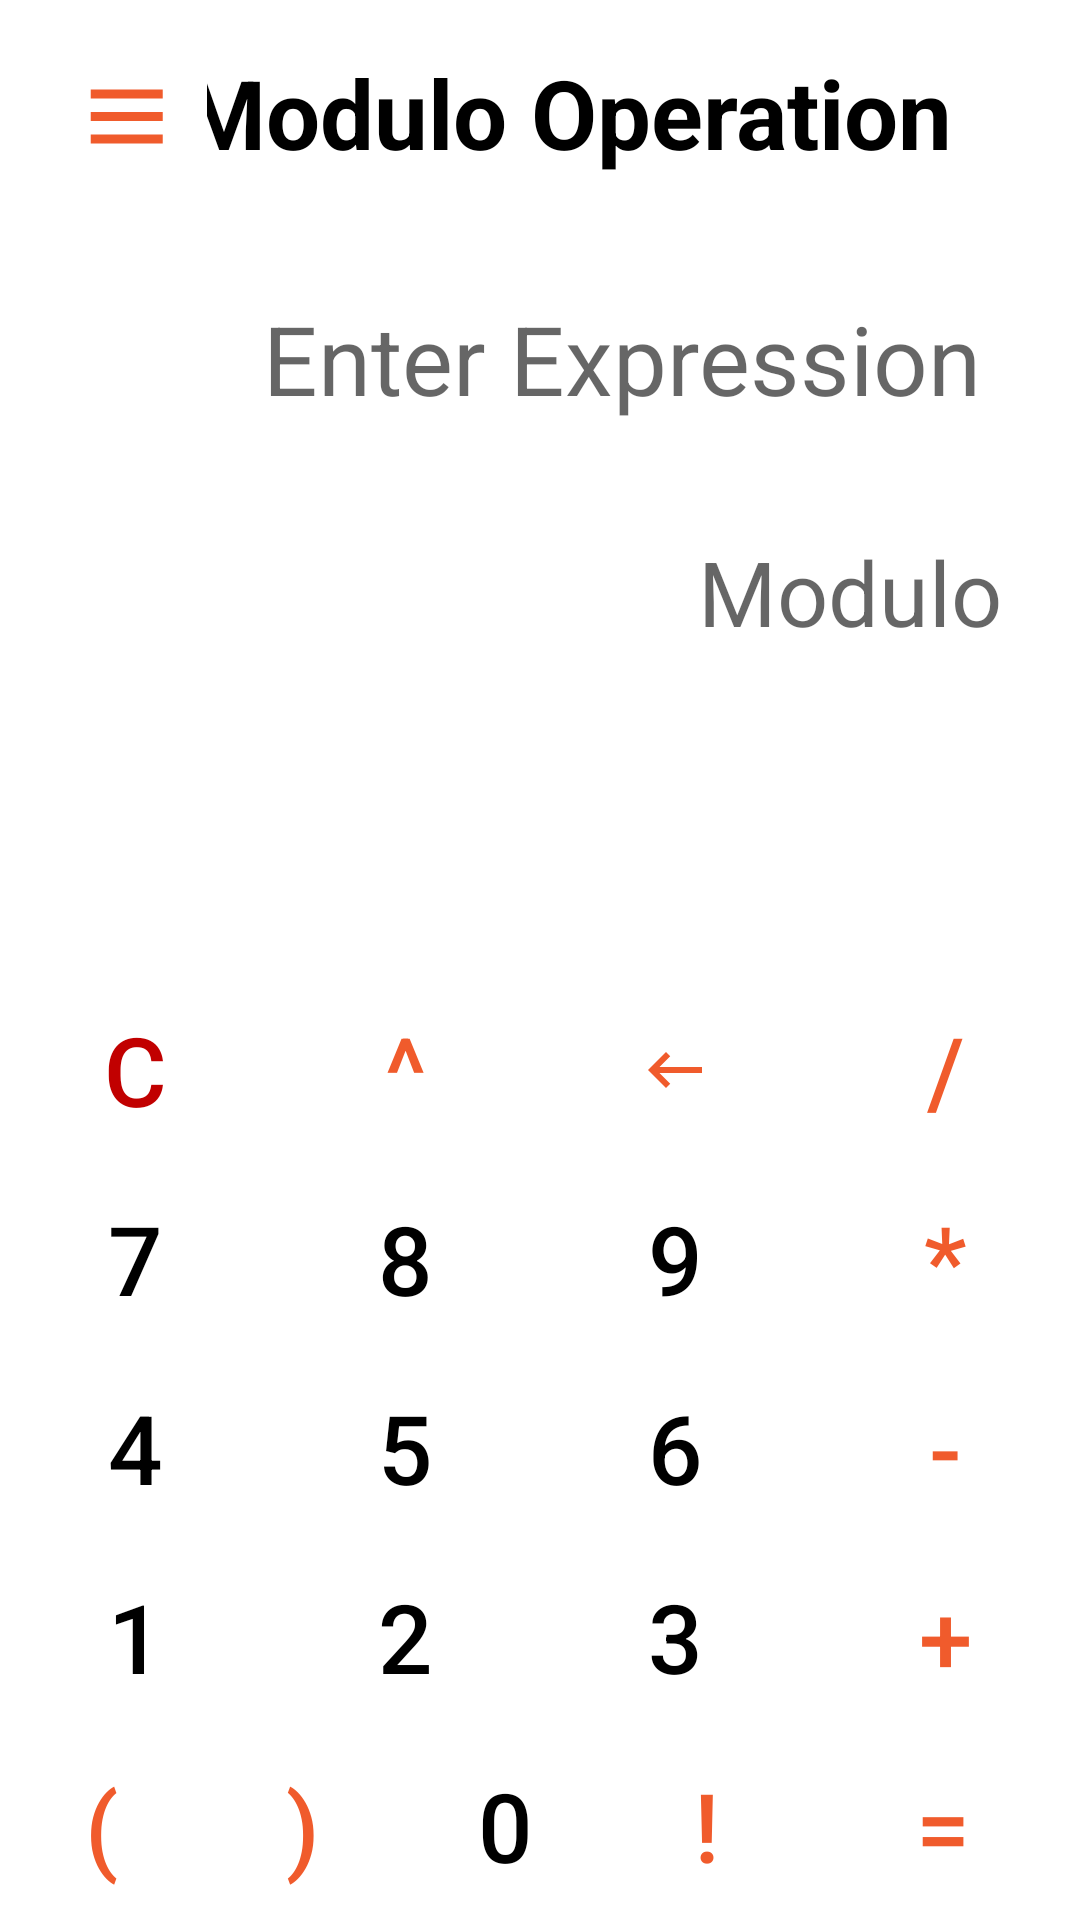

Where icons sit on this 1080*1920 app screen, as (x1, y1, x2, y2):
backspace: (648, 1052, 702, 1088)
menu: (90, 89, 163, 144)
